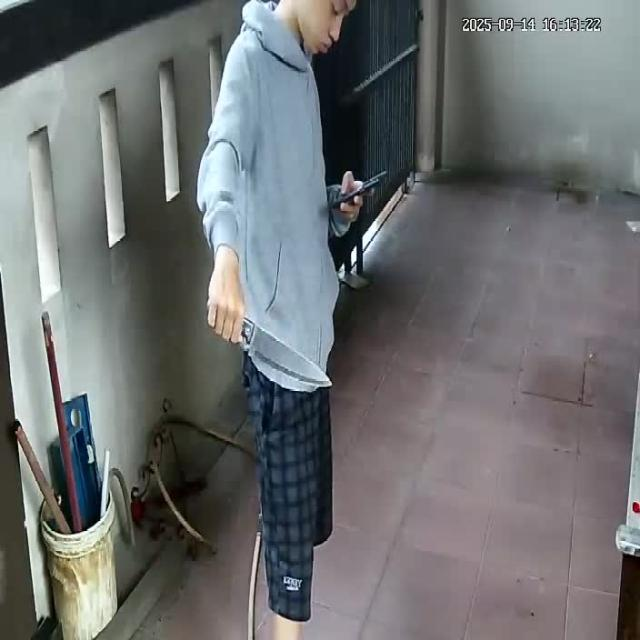senjata_tajam: (246, 318, 334, 390)
